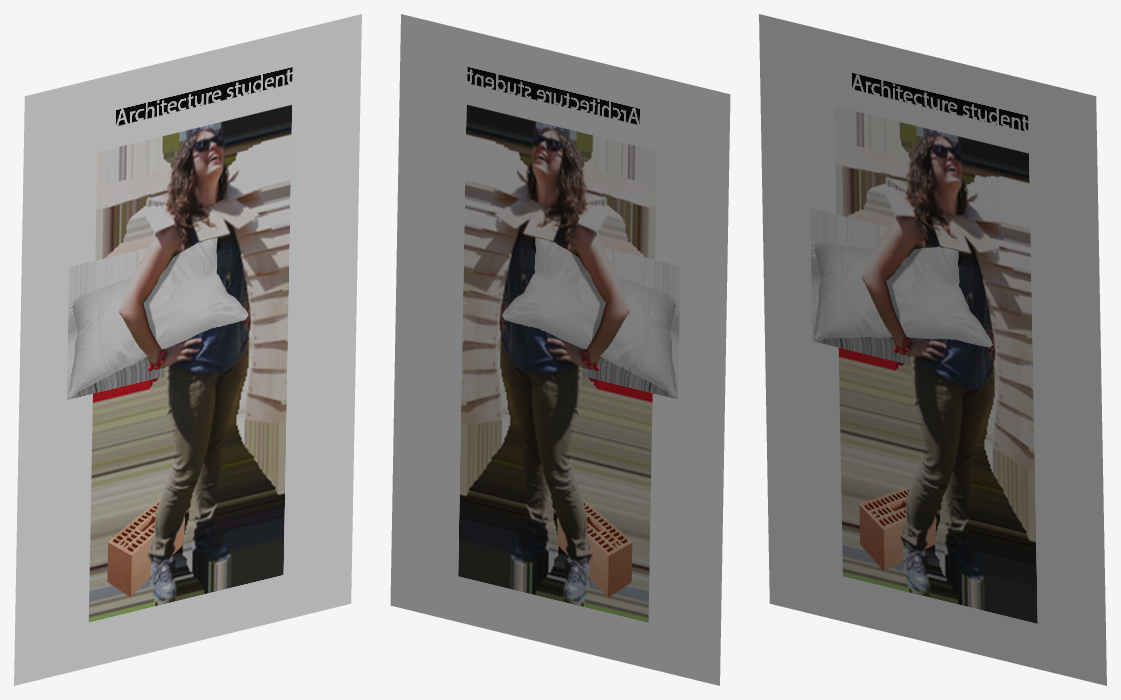
Rendered from Architecture student.glb.
The picture shows the model from 3 angles, left to right: view 1: azimuth 30°, elevation 25°; view 2: azimuth 150°, elevation 25°; view 3: azimuth 330°, elevation 25°; orthographic projection. The views are drawn at different scales.
Parts seen in each view (by area): view 1: architecture student; view 2: architecture student; view 3: architecture student.
Boxes of the visible parts, bbox=[...] form: architecture student: bbox=[14, 14, 361, 685]; architecture student: bbox=[390, 14, 730, 685]; architecture student: bbox=[759, 14, 1106, 685].
Bounding box in the file's own units: 0.6108 × 1.03 × 0.0338.
1 material, 1 textured.
